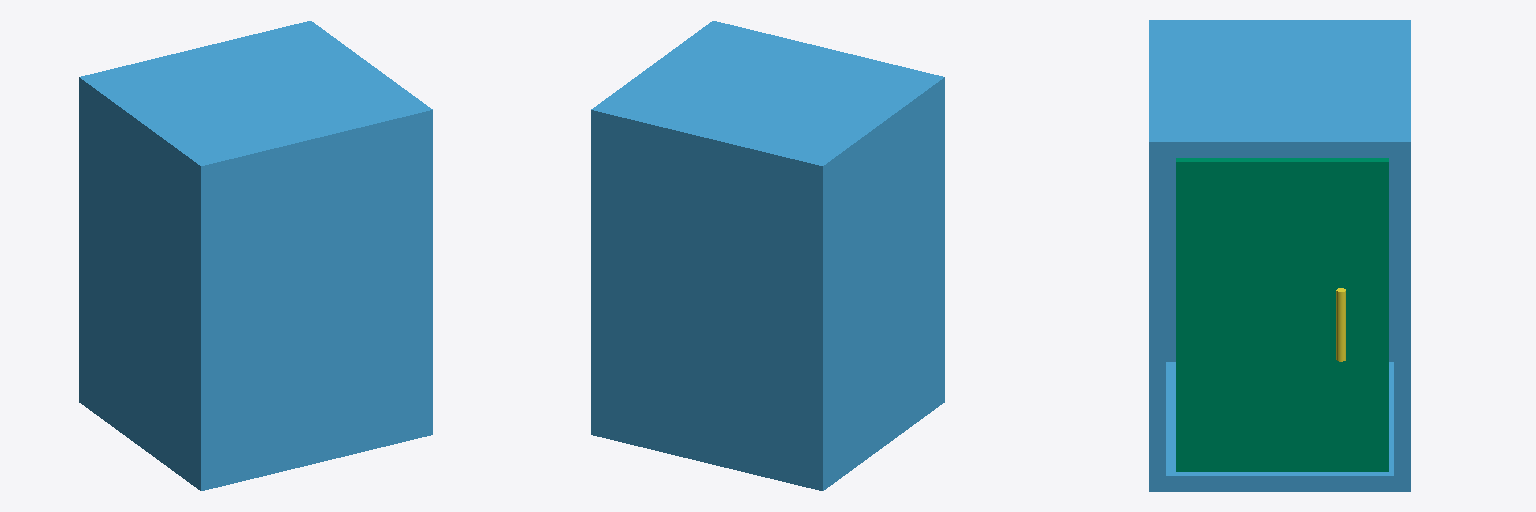
robot.urdf — my_cabinet:
<?xml version="1.0" ?>
<robot name="my_cabinet">
	<link name="world"/>
	<joint name="virtual_joint" type="fixed">
		<parent link="world"/>
		<child link="base_cabinet_link"/>
		<origin xyz="0.0 0.0 0.0" rpy="0.0 0.0 0.0"/>
	</joint>
	<link name="base_cabinet_link">
		<visual>
			<origin xyz="0.0 -0.0025 -0.19193975336944874" rpy="0.0 0.0 0.0"/>
			<geometry>
				<box size="0.3 0.2735039207041458 0.018"/>
			</geometry>
		</visual>
		<collision name="base_cabinet_link_collision_0">
			<origin xyz="0.0 -0.0025 -0.19193975336944874" rpy="0.0 0.0 0.0"/>
			<geometry>
				<box size="0.3 0.2735039207041458 0.018"/>
			</geometry>
		</collision>
		<visual>
			<origin xyz="0.0 0.12525196035207292 0.0" rpy="0.0 0.0 0.0"/>
			<geometry>
				<box size="0.3 0.018 0.4018795067388975"/>
			</geometry>
		</visual>
		<collision name="base_cabinet_link_collision_1">
			<origin xyz="0.0 0.12525196035207292 0.0" rpy="0.0 0.0 0.0"/>
			<geometry>
				<box size="0.3 0.018 0.4018795067388975"/>
			</geometry>
		</collision>
		<visual>
			<origin xyz="0.0 -0.1302519603520729 0.0" rpy="0.0 0.0 0.0"/>
			<geometry>
				<box size="0.3 0.018 0.4018795067388975"/>
			</geometry>
		</visual>
		<collision name="base_cabinet_link_collision_2">
			<origin xyz="0.0 -0.1302519603520729 0.0" rpy="0.0 0.0 0.0"/>
			<geometry>
				<box size="0.3 0.018 0.4018795067388975"/>
			</geometry>
		</collision>
		<visual>
			<origin xyz="0.0 -0.0025 0.19193975336944874" rpy="0.0 0.0 0.0"/>
			<geometry>
				<box size="0.3 0.2735039207041458 0.018"/>
			</geometry>
		</visual>
		<collision name="base_cabinet_link_collision_3">
			<origin xyz="0.0 -0.0025 0.19193975336944874" rpy="0.0 0.0 0.0"/>
			<geometry>
				<box size="0.3 0.2735039207041458 0.018"/>
			</geometry>
		</collision>
		<visual>
			<origin xyz="-0.141 -0.0025 0.0" rpy="0.0 0.0 0.0"/>
			<geometry>
				<box size="0.018 0.2735039207041458 0.4018795067388975"/>
			</geometry>
		</visual>
		<collision name="base_cabinet_link_collision_4">
			<origin xyz="-0.141 -0.0025 0.0" rpy="0.0 0.0 0.0"/>
			<geometry>
				<box size="0.018 0.2735039207041458 0.4018795067388975"/>
			</geometry>
		</collision>
		<inertial>
			<mass value="0.200000"/>
			<inertia ixx="0.003939" ixy="0.0" ixz="0.0" iyy="0.004192" iyz="0.0" izz="0.002747"/>
		</inertial>
	</link>
	<link name="door_link">
		<visual>
			<origin xyz="0.0 -0.11125196035207291 0.0"/>
			<geometry>
				<box size="0.018 0.22250392070414582 0.35587950673889746"/>
			</geometry>
		</visual>
		<collision name="door_link_collision">
			<origin xyz="0.0 -0.11125196035207291 0.0"/>
			<geometry>
				<box size="0.018 0.22250392070414582 0.35587950673889746"/>
			</geometry>
		</collision>
		<inertial>
			<mass value="0.200000"/>
			<inertia ixx="0.002936" ixy="0.0" ixz="0.0" iyy="0.002116" iyz="0.0" izz="0.000831"/>
		</inertial>
	</link>
	<joint name="door_joint" type="revolute">
		<origin xyz="0.141 -0.11125196035207291 0.0" rpy="0.000000 -0.000000 3.141593"/>
		<axis xyz="0 0 1"/>
		<parent link="base_cabinet_link"/>
		<child link="door_link"/>
		<limit effort="50" lower="-1.658062789394613" upper="0" velocity="10"/>
		<dynamics friction="3.5" damping="3.5"/>
	</joint>
	<link name="handle_link">
		<visual>
			<origin xyz="0.0 0.0 0.0" rpy="0.0 0.0 0.0"/>
			<geometry>
				<cylinder length="0.08" radius="0.005"/>
			</geometry>
		</visual>
		<collision name="handle_link_collision_0">
			<origin xyz="0.0 0.0 0.0" rpy="0.0 0.0 0.0"/>
			<geometry>
				<cylinder length="0.08" radius="0.005"/>
			</geometry>
		</collision>
		<visual>
			<origin xyz="-0.01 0.0 0.02" rpy="0.0 1.5707963267948966 0.0"/>
			<geometry>
				<cylinder length="0.02" radius="0.003"/>
			</geometry>
		</visual>
		<collision name="handle_link_collision_1">
			<origin xyz="-0.01 0.0 0.02" rpy="0.0 1.5707963267948966 0.0"/>
			<geometry>
				<cylinder length="0.01" radius="0.003"/>
			</geometry>
		</collision>
		<visual>
			<origin xyz="-0.01 0.0 -0.02" rpy="0.0 1.5707963267948966 0.0"/>
			<geometry>
				<cylinder length="0.02" radius="0.003"/>
			</geometry>
		</visual>
		<collision name="handle_link_collision_2">
			<origin xyz="-0.01 0.0 -0.02" rpy="0.0 1.5707963267948966 0.0"/>
			<geometry>
				<cylinder length="0.02" radius="0.003"/>
			</geometry>
		</collision>
		<inertial>
			<mass value="0.050000"/>
			<inertia ixx="0.000027" ixy="0.0" ixz="0.0" iyy="0.000029" iyz="0.0" izz="0.000003"/>
		</inertial>
	</link>
	<joint name="handle_joint" type="fixed">
		<origin xyz="-0.028999999999999998 -0.17250392070414583 0.0" rpy="0.000000 -0.000000 3.141593"/>
		<parent link="door_link"/>
		<child link="handle_link"/>
	</joint>
	<gazebo reference="base_cabinet_link">
		<sensor name="main_sensor" type="contact">
			<selfCollide>true</selfCollide>
			<alwaysOn>true</alwaysOn>
			<updateRate>5.0</updateRate>
			<material>Gazebo/Red</material>
			<contact>
				<collision>base_cabinet_link_collision_0_collision</collision>
				<collision>base_cabinet_link_collision_1_collision</collision>
				<collision>base_cabinet_link_collision_2_collision</collision>
				<collision>base_cabinet_link_collision_3_collision</collision>
				<collision>base_cabinet_link_collision_4_collision</collision>
			</contact>
			<plugin name="gazebo_ros_bumper_controller" filename="libgazebo_ros_bumper.so">
				<bumperTopicName>/contact</bumperTopicName>
				<frameName>world</frameName>
			</plugin>
		</sensor>
	</gazebo>
	<gazebo reference="door_link">
		<sensor name="main_sensor" type="contact">
			<selfCollide>true</selfCollide>
			<alwaysOn>true</alwaysOn>
			<updateRate>5.0</updateRate>
			<material>Gazebo/Red</material>
			<contact>
				<collision>door_link_collision_collision</collision>
			</contact>
			<plugin name="gazebo_ros_bumper_controller" filename="libgazebo_ros_bumper.so">
				<bumperTopicName>/contact_door</bumperTopicName>
				<frameName>contact_door</frameName>
			</plugin>
		</sensor>
	</gazebo>
	<gazebo reference="door_link">
		<mu>3.0</mu>
		<mu2>3.0</mu2>
		<kp>10000000</kp>
		<kd>100</kd>
	</gazebo>
</robot>

--- Render facts (derived) ---
Views: 3 orthographic renders of the robot side by side, from view 1: azimuth 30°, elevation 25°; view 2: azimuth 150°, elevation 25°; view 3: azimuth 270°, elevation 25°.
Robot: my_cabinet — 4 links, 3 joints (1 revolute, 2 fixed); root link world; default pose: all joints at 0.
Visible links, largest first — view 1: base_cabinet_link; view 2: base_cabinet_link; view 3: door_link, base_cabinet_link, handle_link.
Link boxes in pixels (x1=…): base_cabinet_link: x1=79, y1=21, x2=432, y2=490; base_cabinet_link: x1=591, y1=21, x2=944, y2=490; door_link: x1=1176, y1=158, x2=1388, y2=471; base_cabinet_link: x1=1149, y1=20, x2=1410, y2=491; handle_link: x1=1336, y1=288, x2=1345, y2=361.
Size in the robot's own frame: 0.325 by 0.2735 by 0.4019 metres.
Geometry: primitives only (box / cylinder / sphere), no mesh files.
